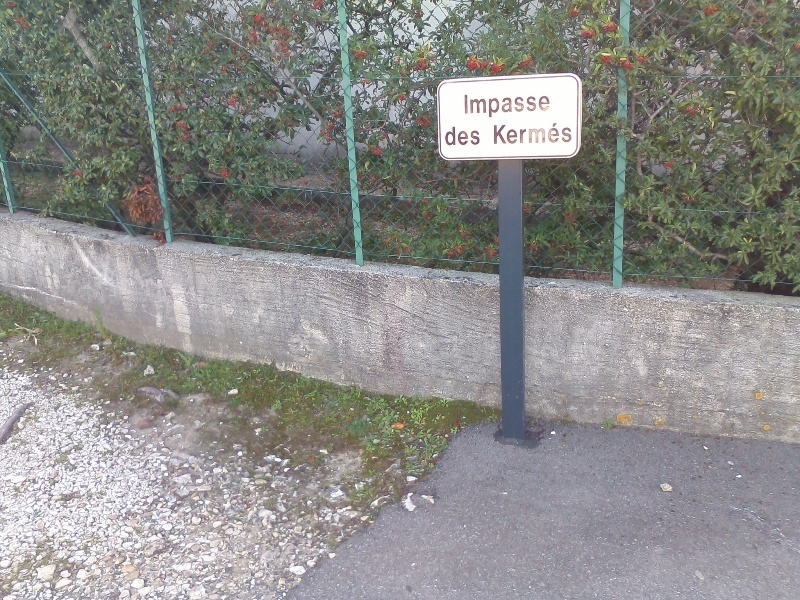text: (465, 94, 480, 119), (481, 94, 496, 119), (497, 94, 512, 119), (513, 94, 528, 119), (529, 94, 544, 119), (497, 121, 512, 145), (513, 121, 528, 145), (529, 121, 544, 145), (545, 121, 560, 145), (465, 126, 481, 147), (561, 121, 575, 145), (449, 126, 464, 147), (545, 94, 551, 119), (493, 121, 496, 145), (445, 126, 448, 147), (463, 94, 464, 119)
